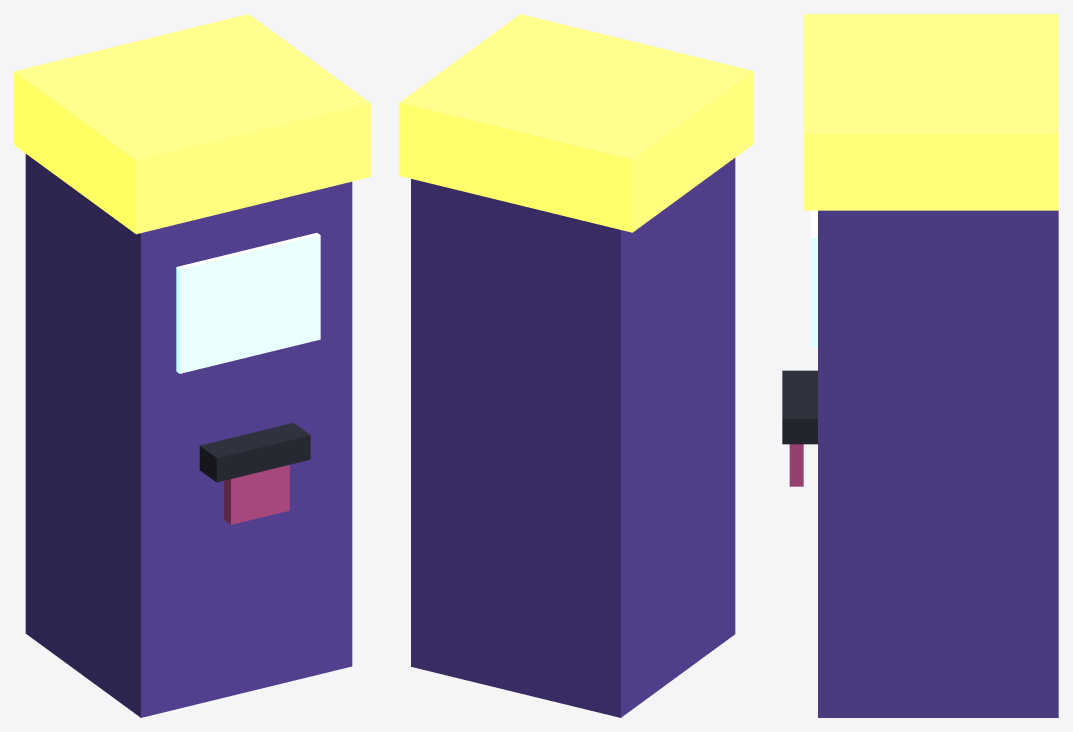
Rendered from ticket-machine.glb.
The picture shows the model from 3 angles, left to right: view 1: azimuth 30°, elevation 25°; view 2: azimuth 150°, elevation 25°; view 3: azimuth 270°, elevation 25°; orthographic projection. The views are drawn at different scales.
Visible parts, largest first — view 1: ticket-machine; view 2: ticket-machine; view 3: ticket-machine.
Part boxes in pixels (x1,y1,x2,y2): ticket-machine: [14, 14, 370, 717]; ticket-machine: [399, 14, 753, 717]; ticket-machine: [782, 14, 1058, 717].
Bounding box in the file's own units: 0.4 × 0.92 × 0.39.
Materials: 1 (1 with a texture image).
